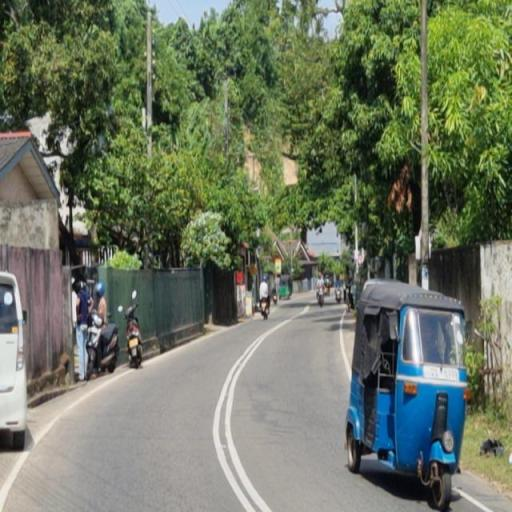double_white_line: (213, 315, 273, 511)
